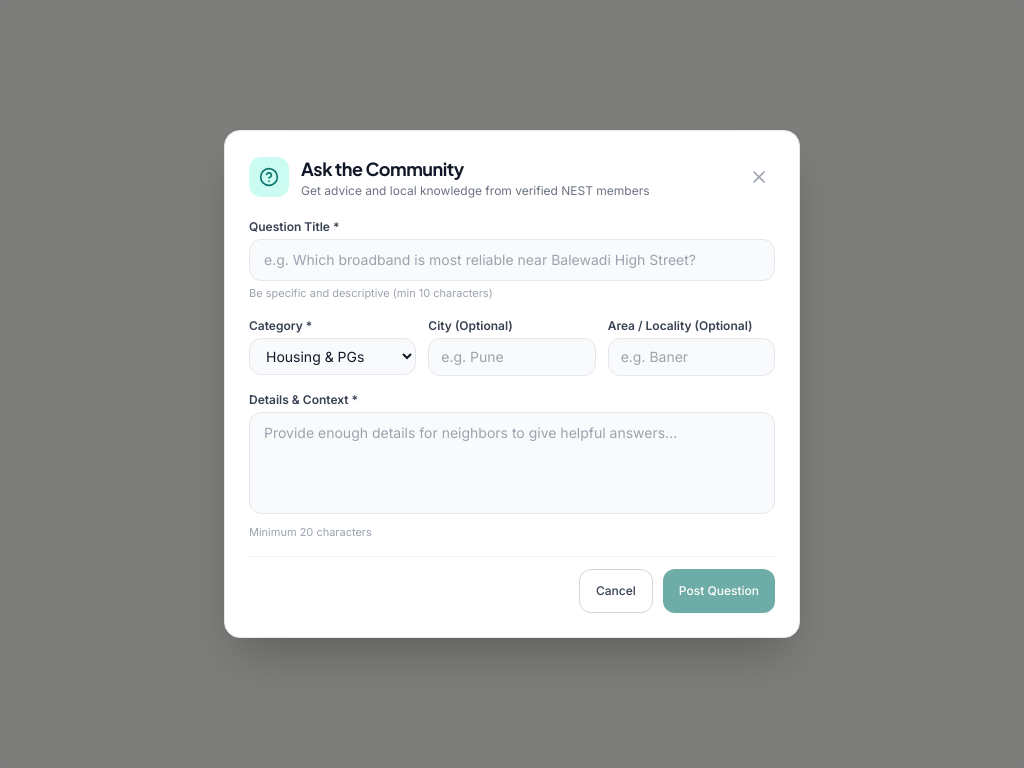
Test case: Phase 12: Community Intelligence › AskQuestionModal › validates title and details length before allowing submission
Expected: the button "Post Question" is disabled, x1=663 y1=569 x2=775 y2=613
Replace the text in the field with placeholder "Which broadband is most reliable" with "Short": (512,260) x1=249 y1=239 x2=775 y2=281
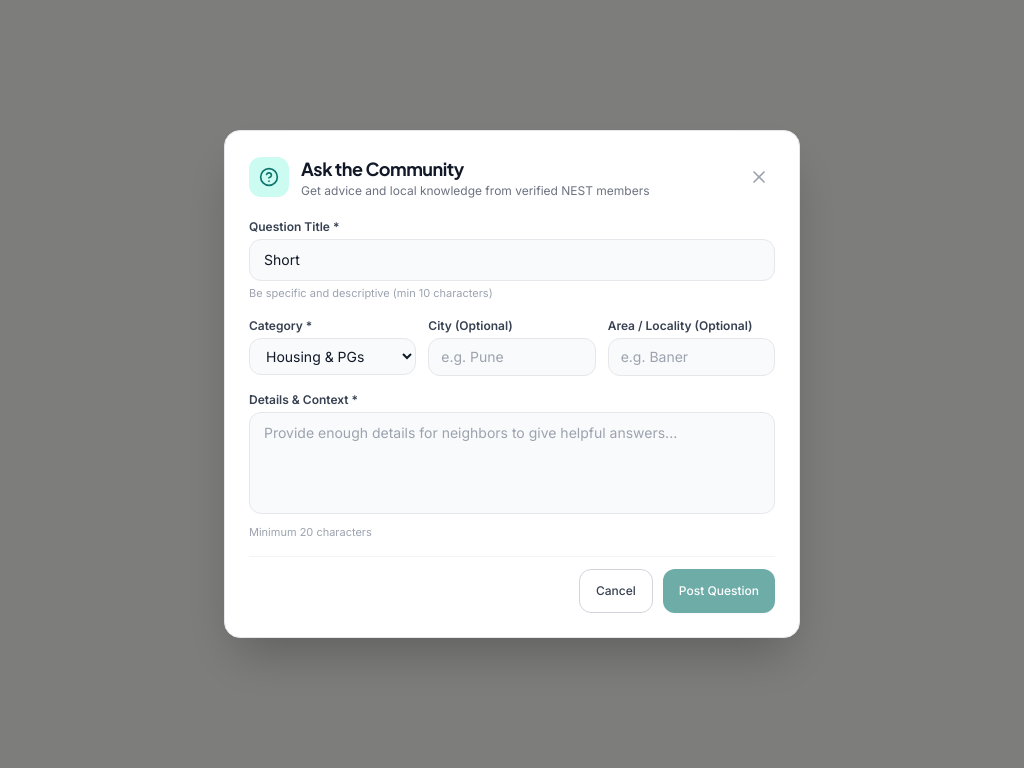
Replace the text in the text box with placeholder "Provide enough details" with "Too short": (512,462) x1=249 y1=412 x2=775 y2=514
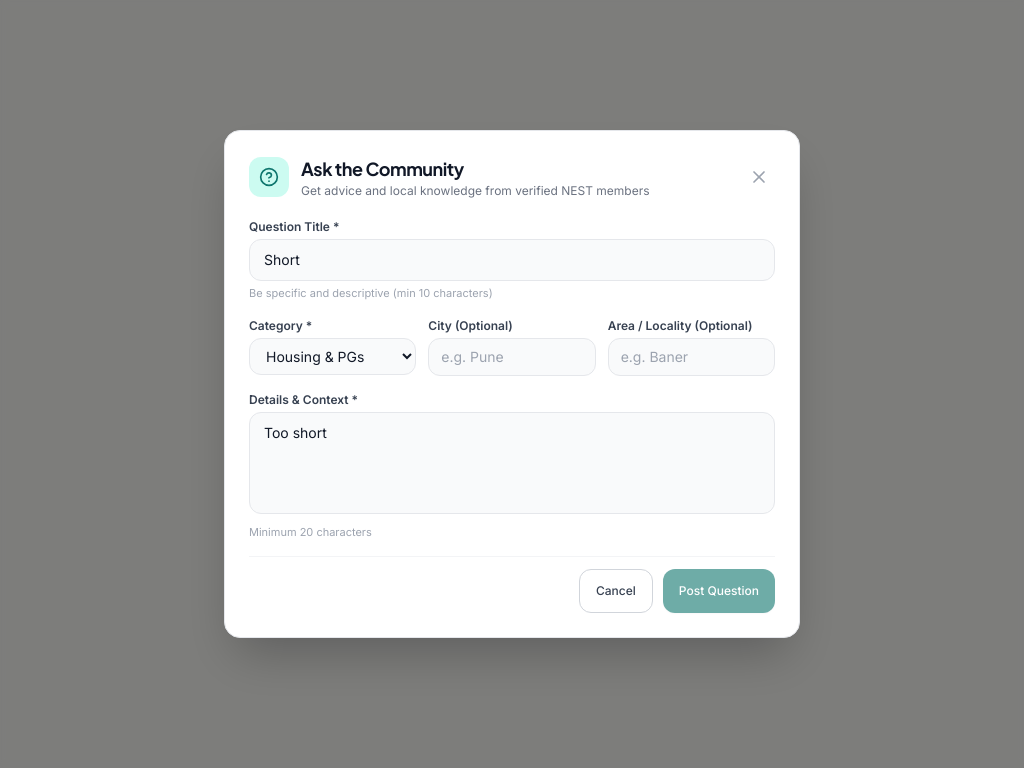
Expected: the button "Post Question" is disabled, x1=663 y1=569 x2=775 y2=613
Replace the text in the field with placeholder "Which broadband is most reliable" with "Valid question title for community": (512,260) x1=249 y1=239 x2=775 y2=281
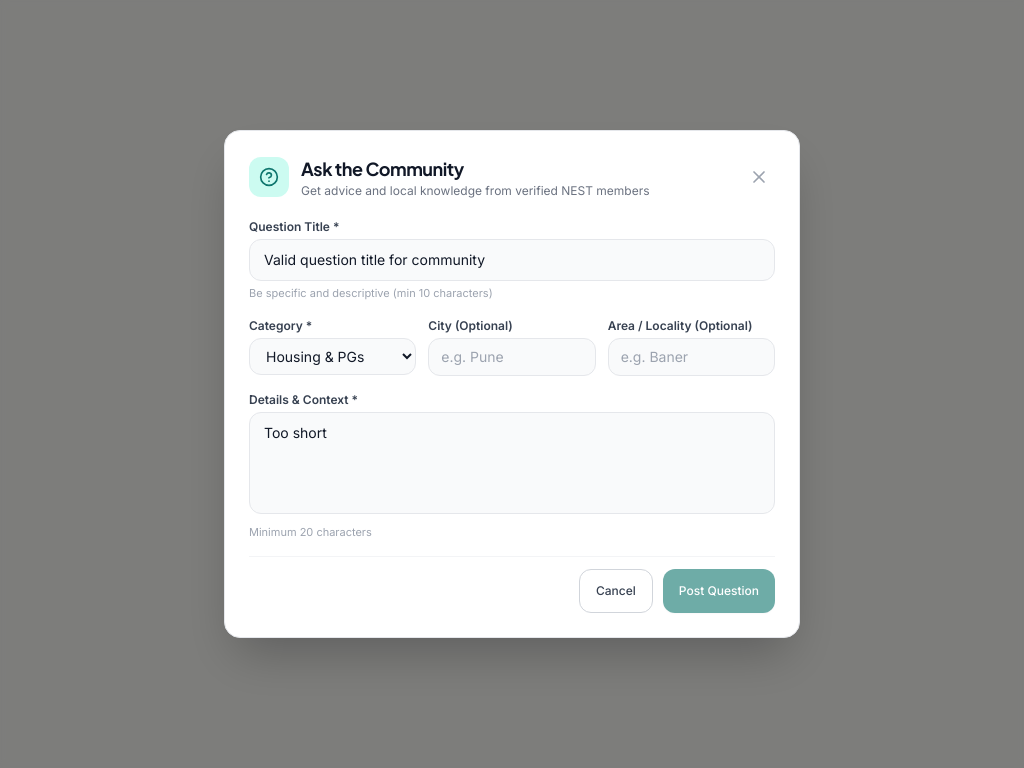
Replace the text in the text box with placeholder "Provide enough details" with "This is a detailed description of the community requirement.": (512,462) x1=249 y1=412 x2=775 y2=514
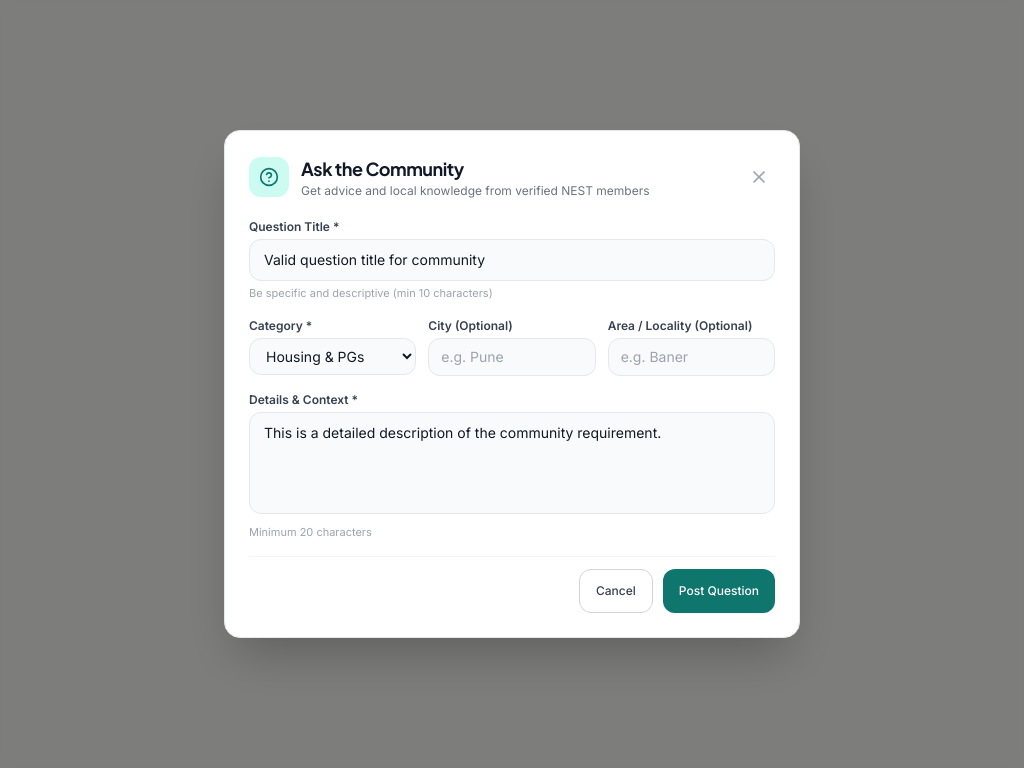
Now the button "Post Question" is enabled, box x1=663 y1=569 x2=775 y2=613
